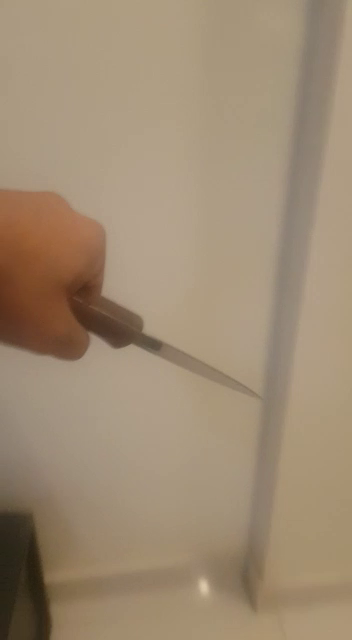knife: (21, 172, 282, 467)
